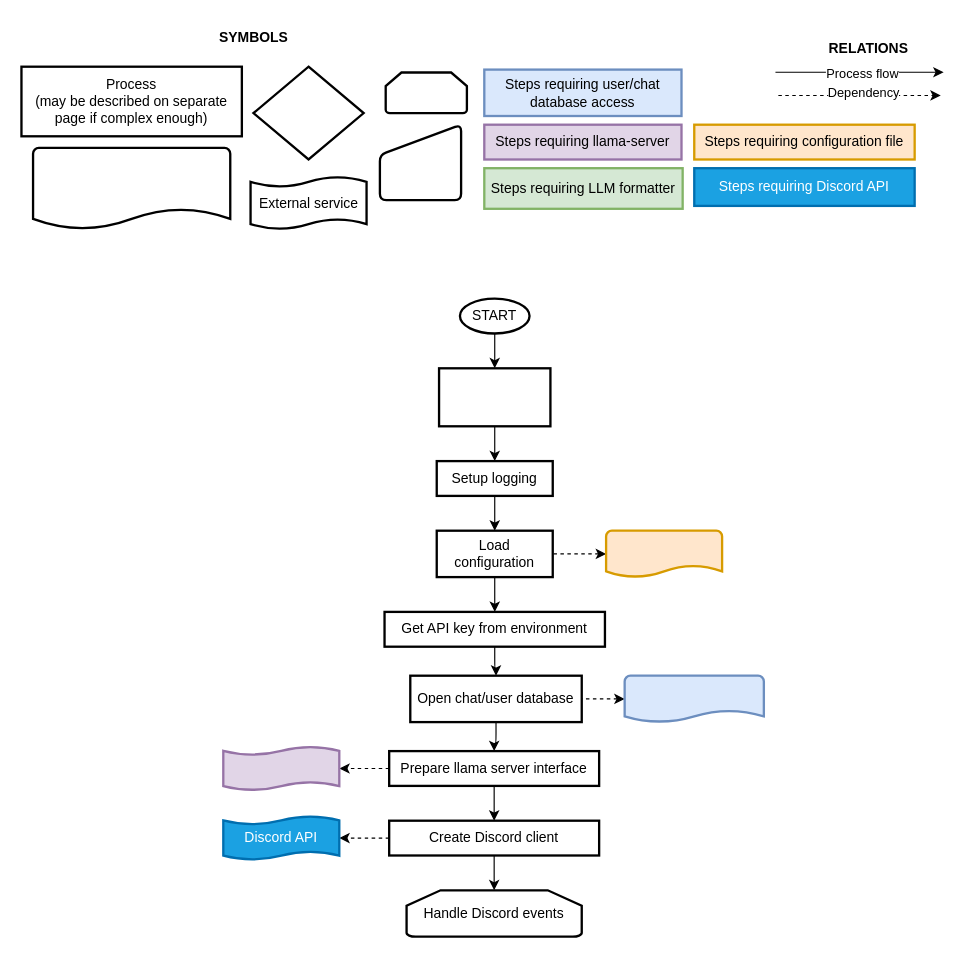
Image size: 973x957. Some labels were removed from this diagram. Each missing label, with the centre of its shape:
Chat/user database: point (693, 698)
Conditional branch: point (308, 112)
Configuration file: point (663, 553)
Document (file/database) dependency: point (131, 188)
llama-server: point (281, 768)
Loop: point (425, 92)
Parse CLI arguments: point (494, 397)
User input: point (420, 162)
